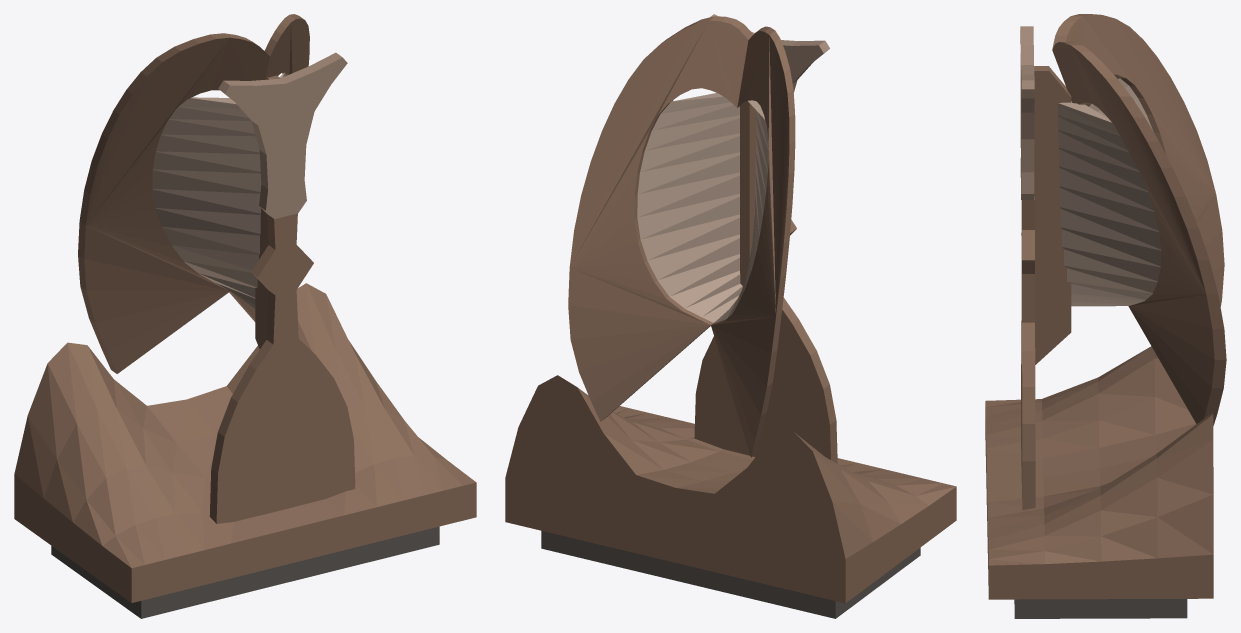
The model's file is detail.glb.
The picture shows the model from 3 angles, left to right: view 1: azimuth 30°, elevation 25°; view 2: azimuth 150°, elevation 25°; view 3: azimuth 270°, elevation 25°; orthographic projection. The views are drawn at different scales.
Visible parts, largest first — view 1: chicago-picasso; view 2: chicago-picasso; view 3: chicago-picasso.
Boxes of the visible parts, box(x1,y1,x2,y2) form: chicago-picasso: box(14, 14, 476, 618); chicago-picasso: box(505, 14, 956, 618); chicago-picasso: box(985, 14, 1226, 618).
Bounding box in the file's own units: 10.45 × 15.2 × 6.43.
